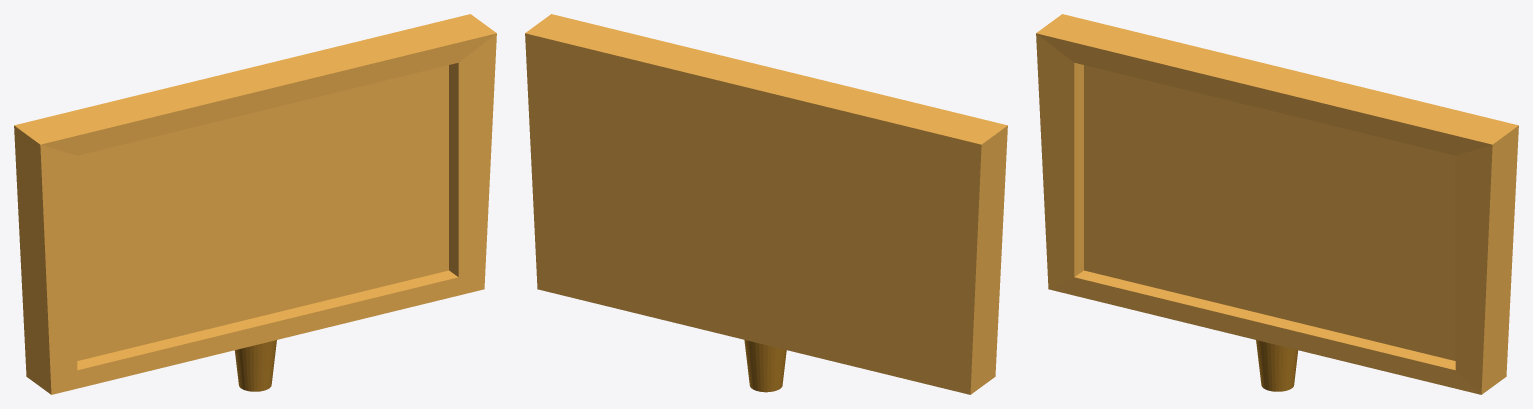
Rendered from projectBanner.glb.
The picture shows the model from 3 angles, left to right: view 1: azimuth 30°, elevation 25°; view 2: azimuth 150°, elevation 25°; view 3: azimuth 330°, elevation 25°; orthographic projection.
Parts seen in each view (by area): view 1: Cube, Cylinder; view 2: Cube, Cylinder; view 3: Cube, Cylinder.
Boxes of the visible parts, x1=… form: Cube: x1=14, y1=14, x2=496, y2=394; Cylinder: x1=234, y1=340, x2=276, y2=391; Cube: x1=525, y1=14, x2=1007, y2=394; Cylinder: x1=744, y1=340, x2=786, y2=392; Cube: x1=1036, y1=14, x2=1518, y2=394; Cylinder: x1=1256, y1=340, x2=1298, y2=391.
Size of the model in its own units: 12.46 by 7.98 by 1.25.
